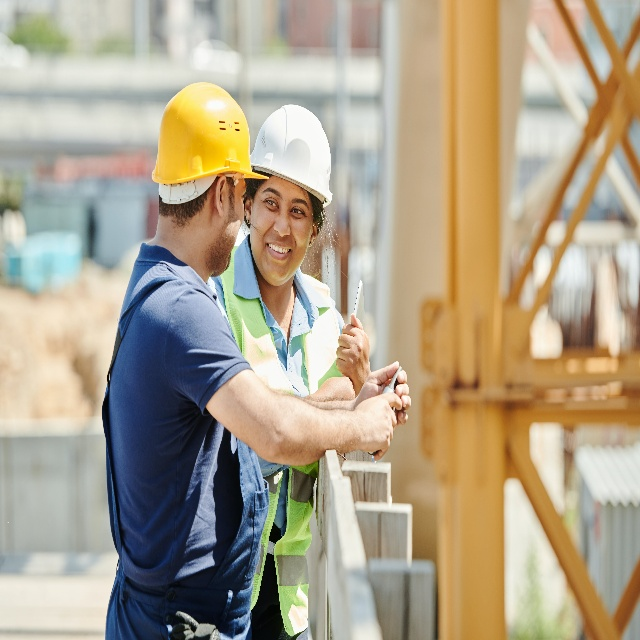Guantes: (170, 610, 222, 640)
Sin_guantes: (354, 361, 412, 426), (356, 390, 402, 460), (336, 312, 375, 384), (318, 376, 355, 399)
